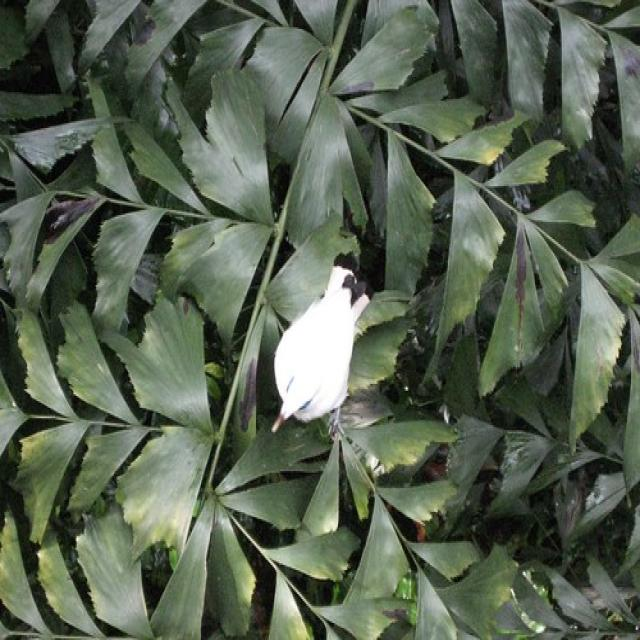Jalak Bali: (237, 239, 391, 446)
